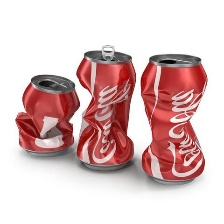can: (139, 49, 209, 186), (74, 44, 137, 172), (10, 66, 79, 161)
